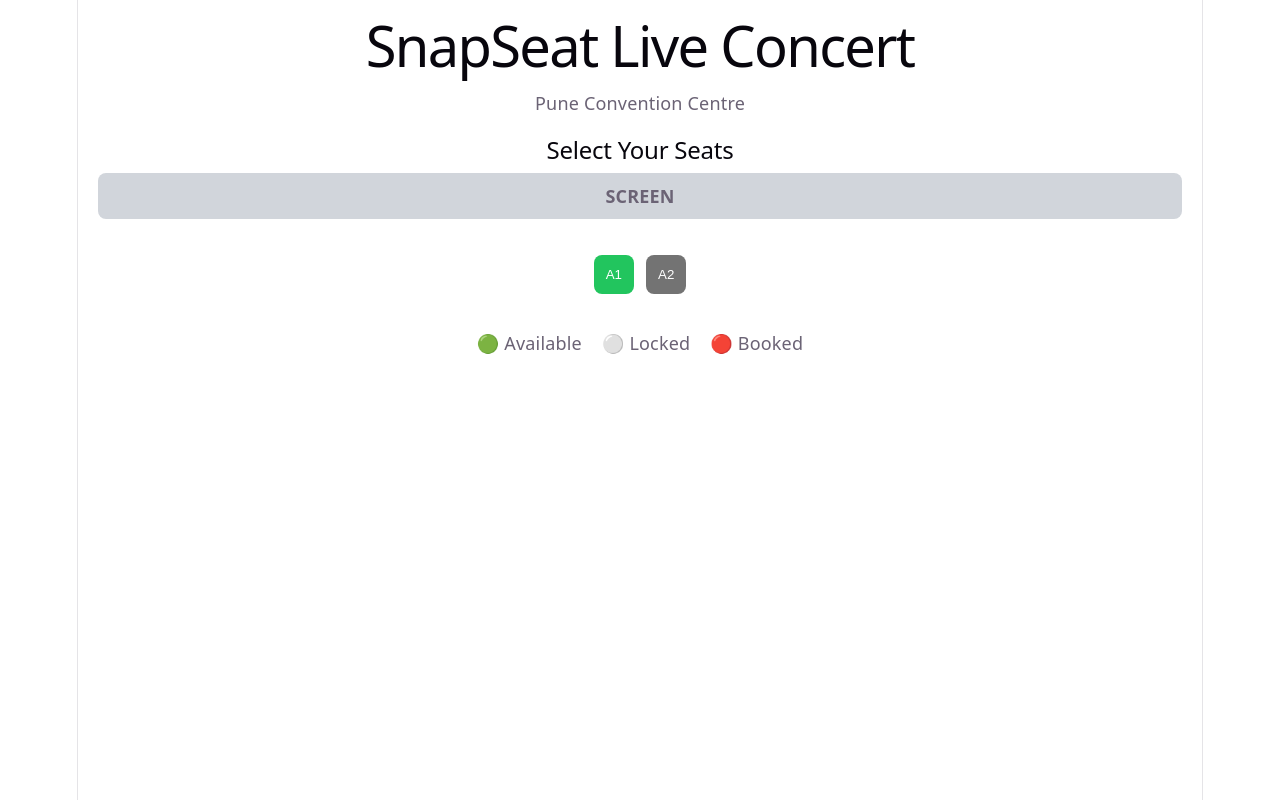
Test: EventDetails Component › should reserve a seat when an available seat is selected
The image size is (1280, 800).
Click the button "A1". click: (614, 274)
box: [594,255,634,294]
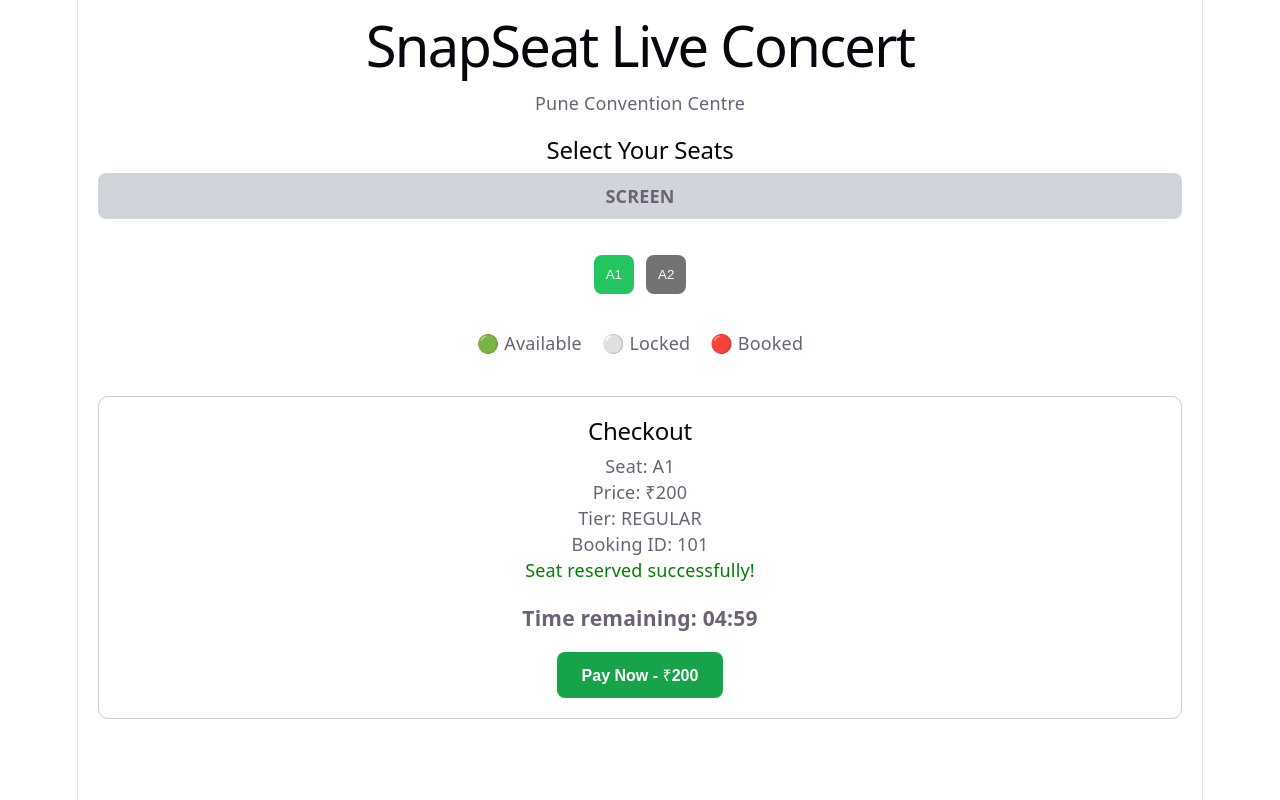
Expected: the heading "Checkout" is shown, [588,414,692,447]
Expected: the text "Booking ID: 101" is shown, [572,532,708,556]
